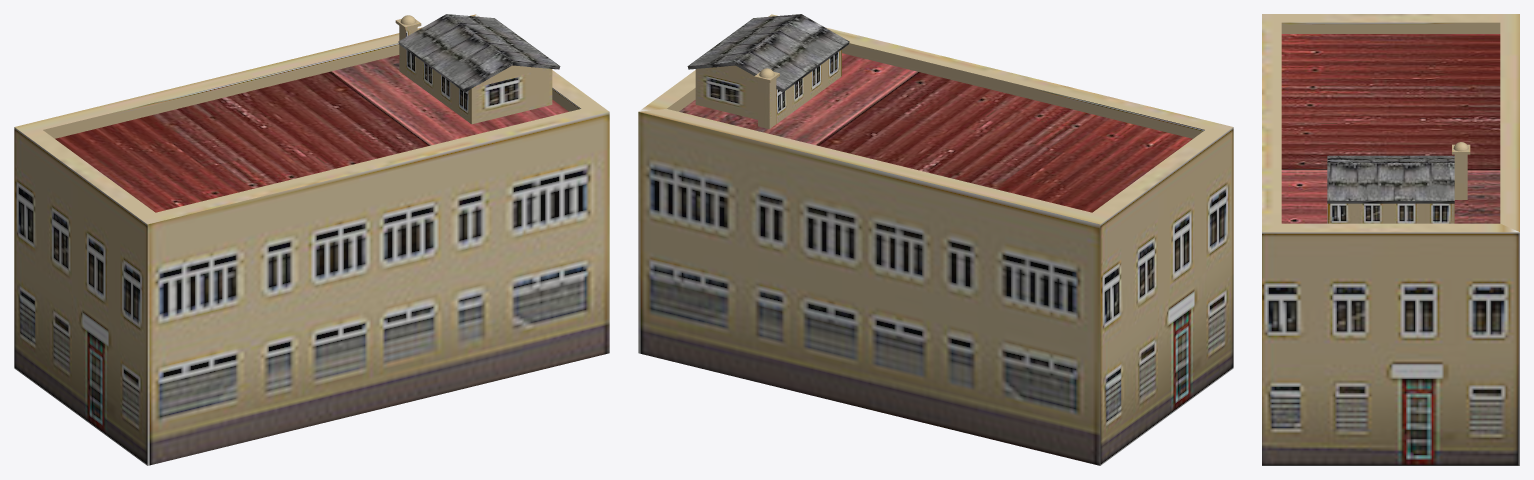
File: monoblockbloquederecho.fbx
The picture shows the model from 3 angles, left to right: view 1: azimuth 30°, elevation 25°; view 2: azimuth 150°, elevation 25°; view 3: azimuth 270°, elevation 25°; orthographic projection. The views are drawn at different scales.
Visible parts, largest first — view 1: Sphere; view 2: Sphere; view 3: Sphere.
Boxes of the visible parts, <box> form: Sphere: <box>14,14,609,465</box>; Sphere: <box>638,14,1233,465</box>; Sphere: <box>1262,14,1519,465</box>.
Bounding box in the file's own units: 400 × 237 × 200.
7 materials, 7 textured.
